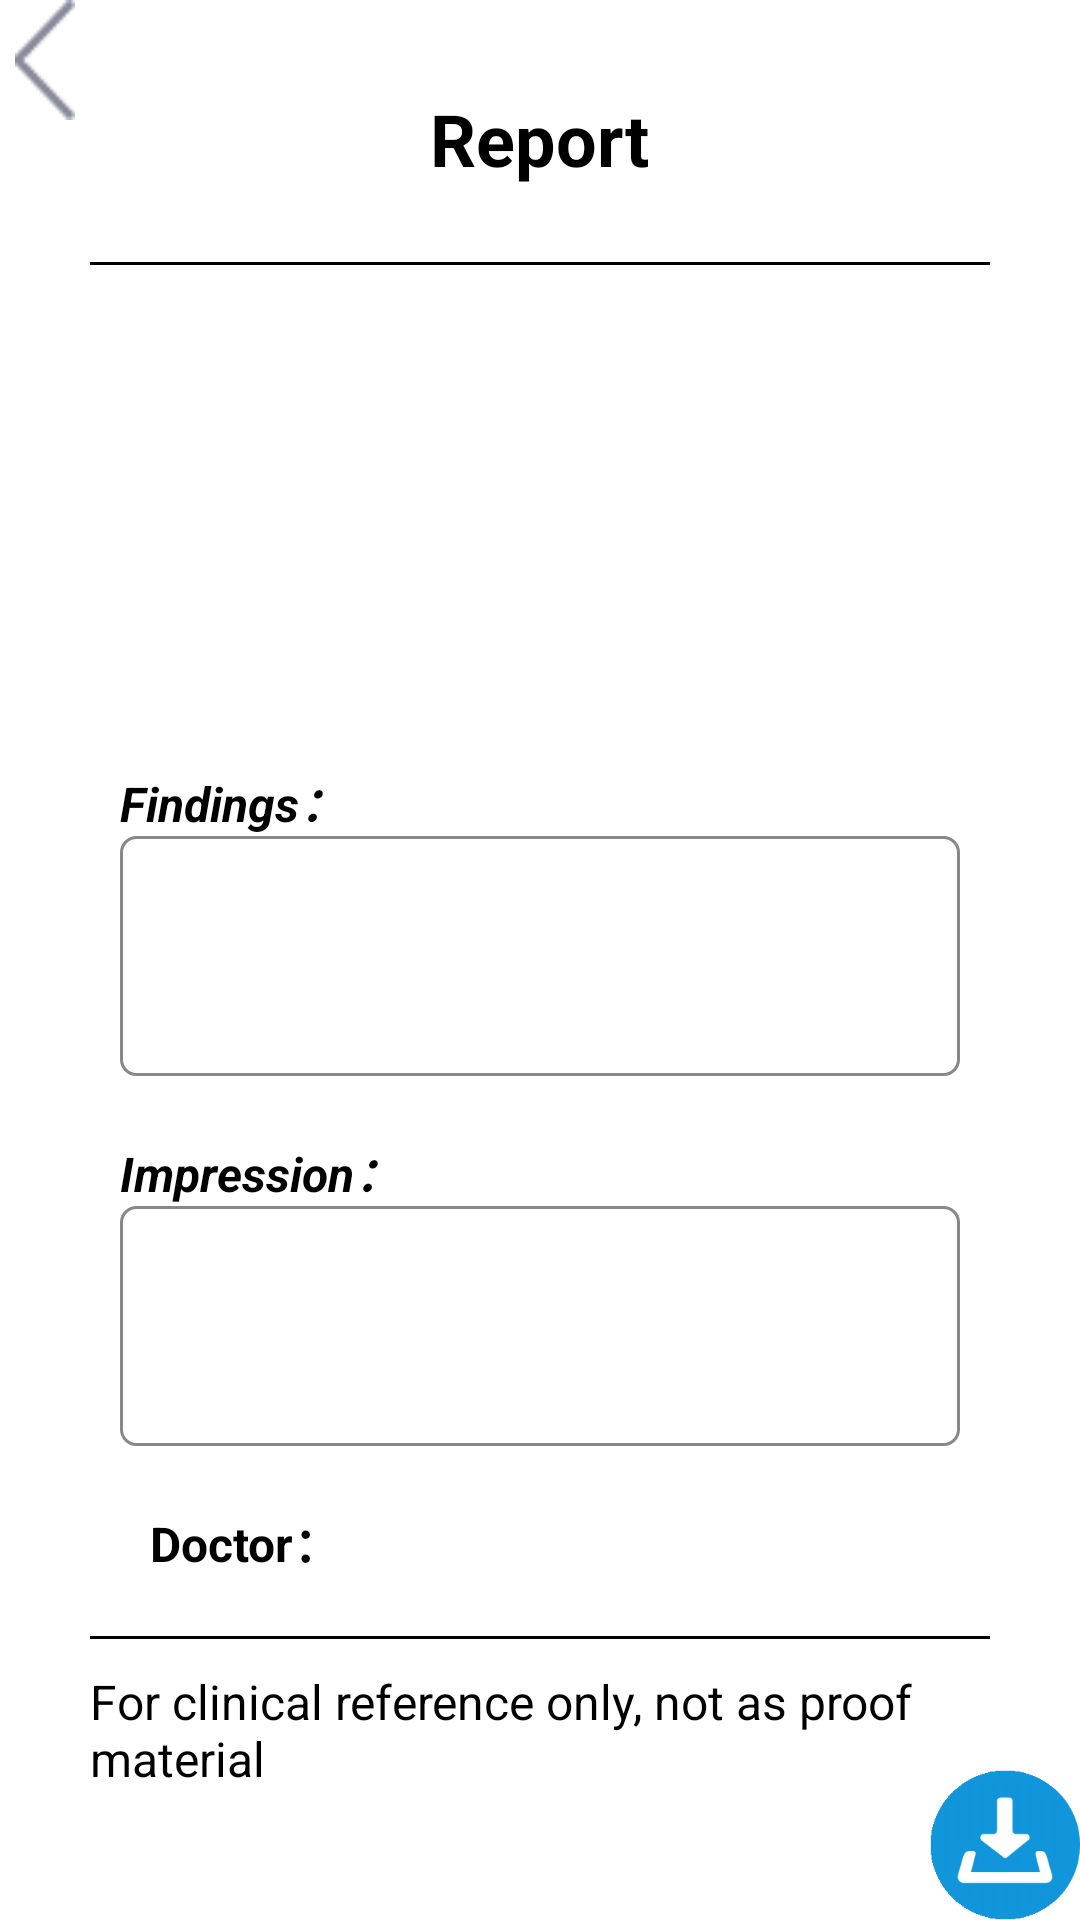

Screen size 1080 x 1920. Icon name, then its box in pixels as (x1, y1, x2, y2):
save: (930, 1770, 1080, 1920)
